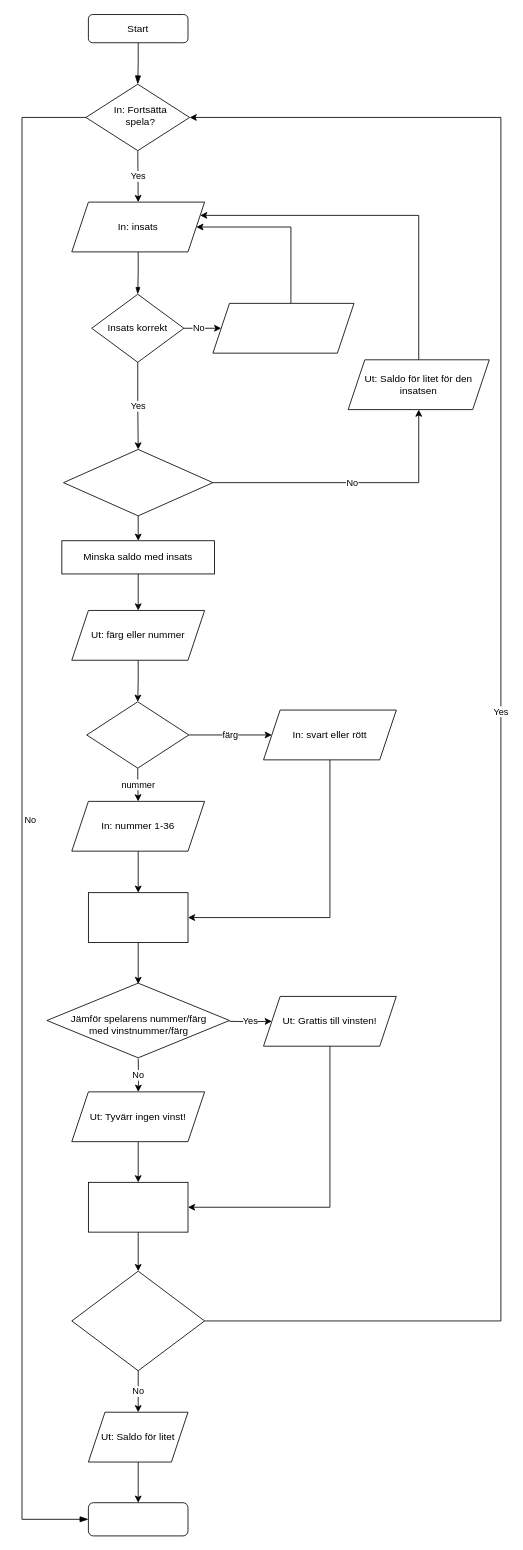
Image size: 523x1550. Some labels were removed from this diagram. The shapes that lost their labels are listed below. From the top down, each one's box as (x1, y1, x2, y2) in pixels, then its label:
(212, 303, 354, 353): Ut: 100, 300 eller 500 kr
(63, 449, 213, 516): Saldo >= insats?
(86, 701, 189, 768): In: färg eller nummer
(88, 892, 188, 942): Slumpa fram vinstnummer
(88, 1182, 188, 1232): Återställ spelarval och flaggor för inmatning
(71, 1270, 205, 1371): Kontrollera saldot är större än minsta insats
(88, 1502, 188, 1536): Stop
